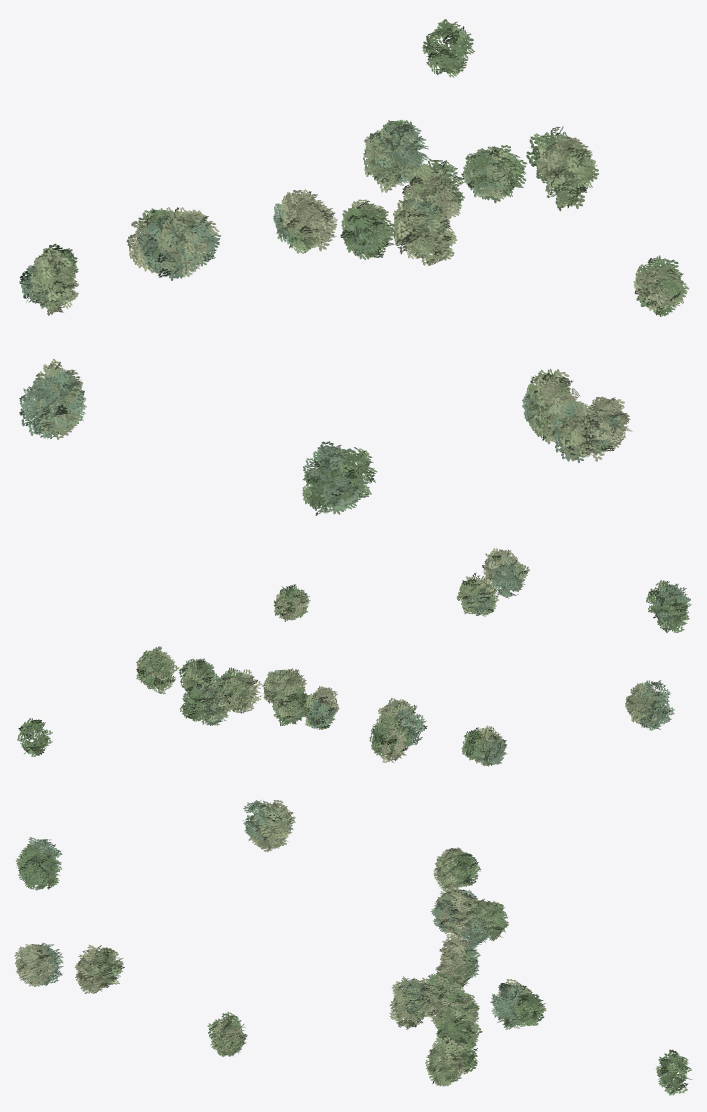
The model's file is campus-tree--1_-1-near.glb.
3 renders of one model, top to bottom at view 1: azimuth 30°, elevation 25°; view 2: azimuth 150°, elevation 25°; view 3: azimuth 270°, elevation 25°, orthographic. The views are drawn at different scales.
Parts seen in each view (by area): view 1: Campus leaf canopy; view 2: Campus leaf canopy; view 3: Campus leaf canopy.
Part boxes in pixels (box(x1,y1,x2,y2)): Campus leaf canopy: box(19, 19, 688, 515); Campus leaf canopy: box(17, 548, 691, 766); Campus leaf canopy: box(14, 800, 692, 1095).
Size of the model in its own units: 63.67 by 8 by 69.86.
1 material, 1 textured.
